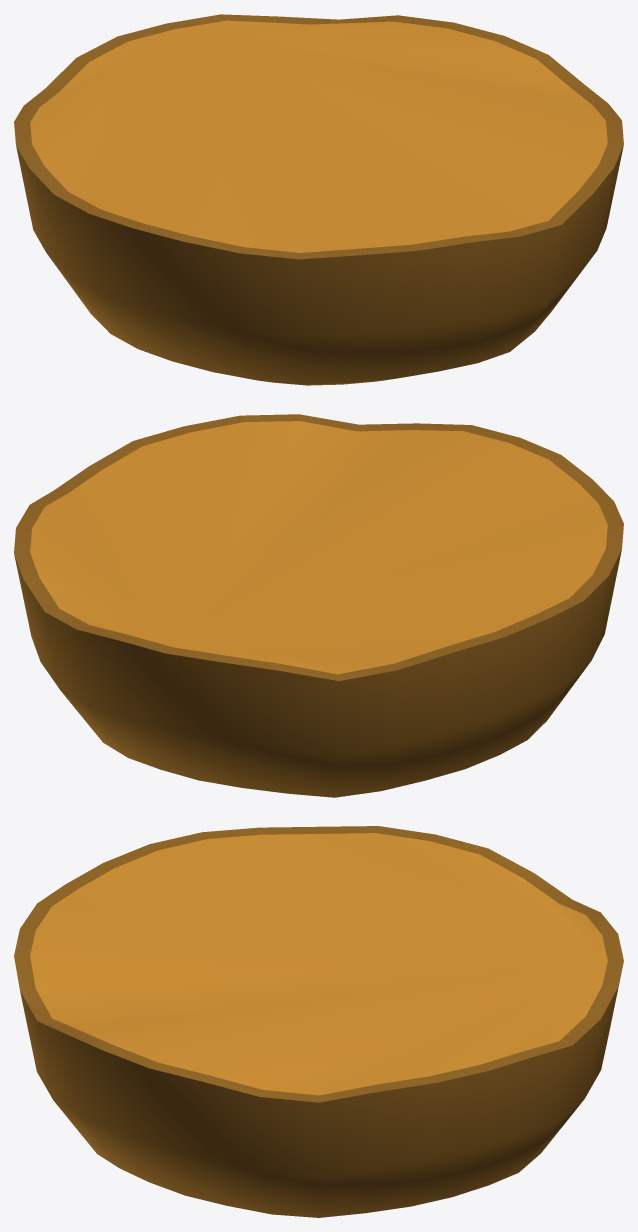
File: tree base.fbx
3 views of the same model, one above another, from view 1: azimuth 30°, elevation 25°; view 2: azimuth 150°, elevation 25°; view 3: azimuth 270°, elevation 25° (orthographic).
Parts seen in each view (by area): view 1: Cylinder.119; view 2: Cylinder.119; view 3: Cylinder.119.
Part boxes in pixels (left/top/right/bottom): Cylinder.119: left=14, top=14, right=623, bottom=385; Cylinder.119: left=14, top=414, right=623, bottom=797; Cylinder.119: left=14, top=826, right=623, bottom=1217.
Size of the model in its own units: 1896 by 645 by 1896.
